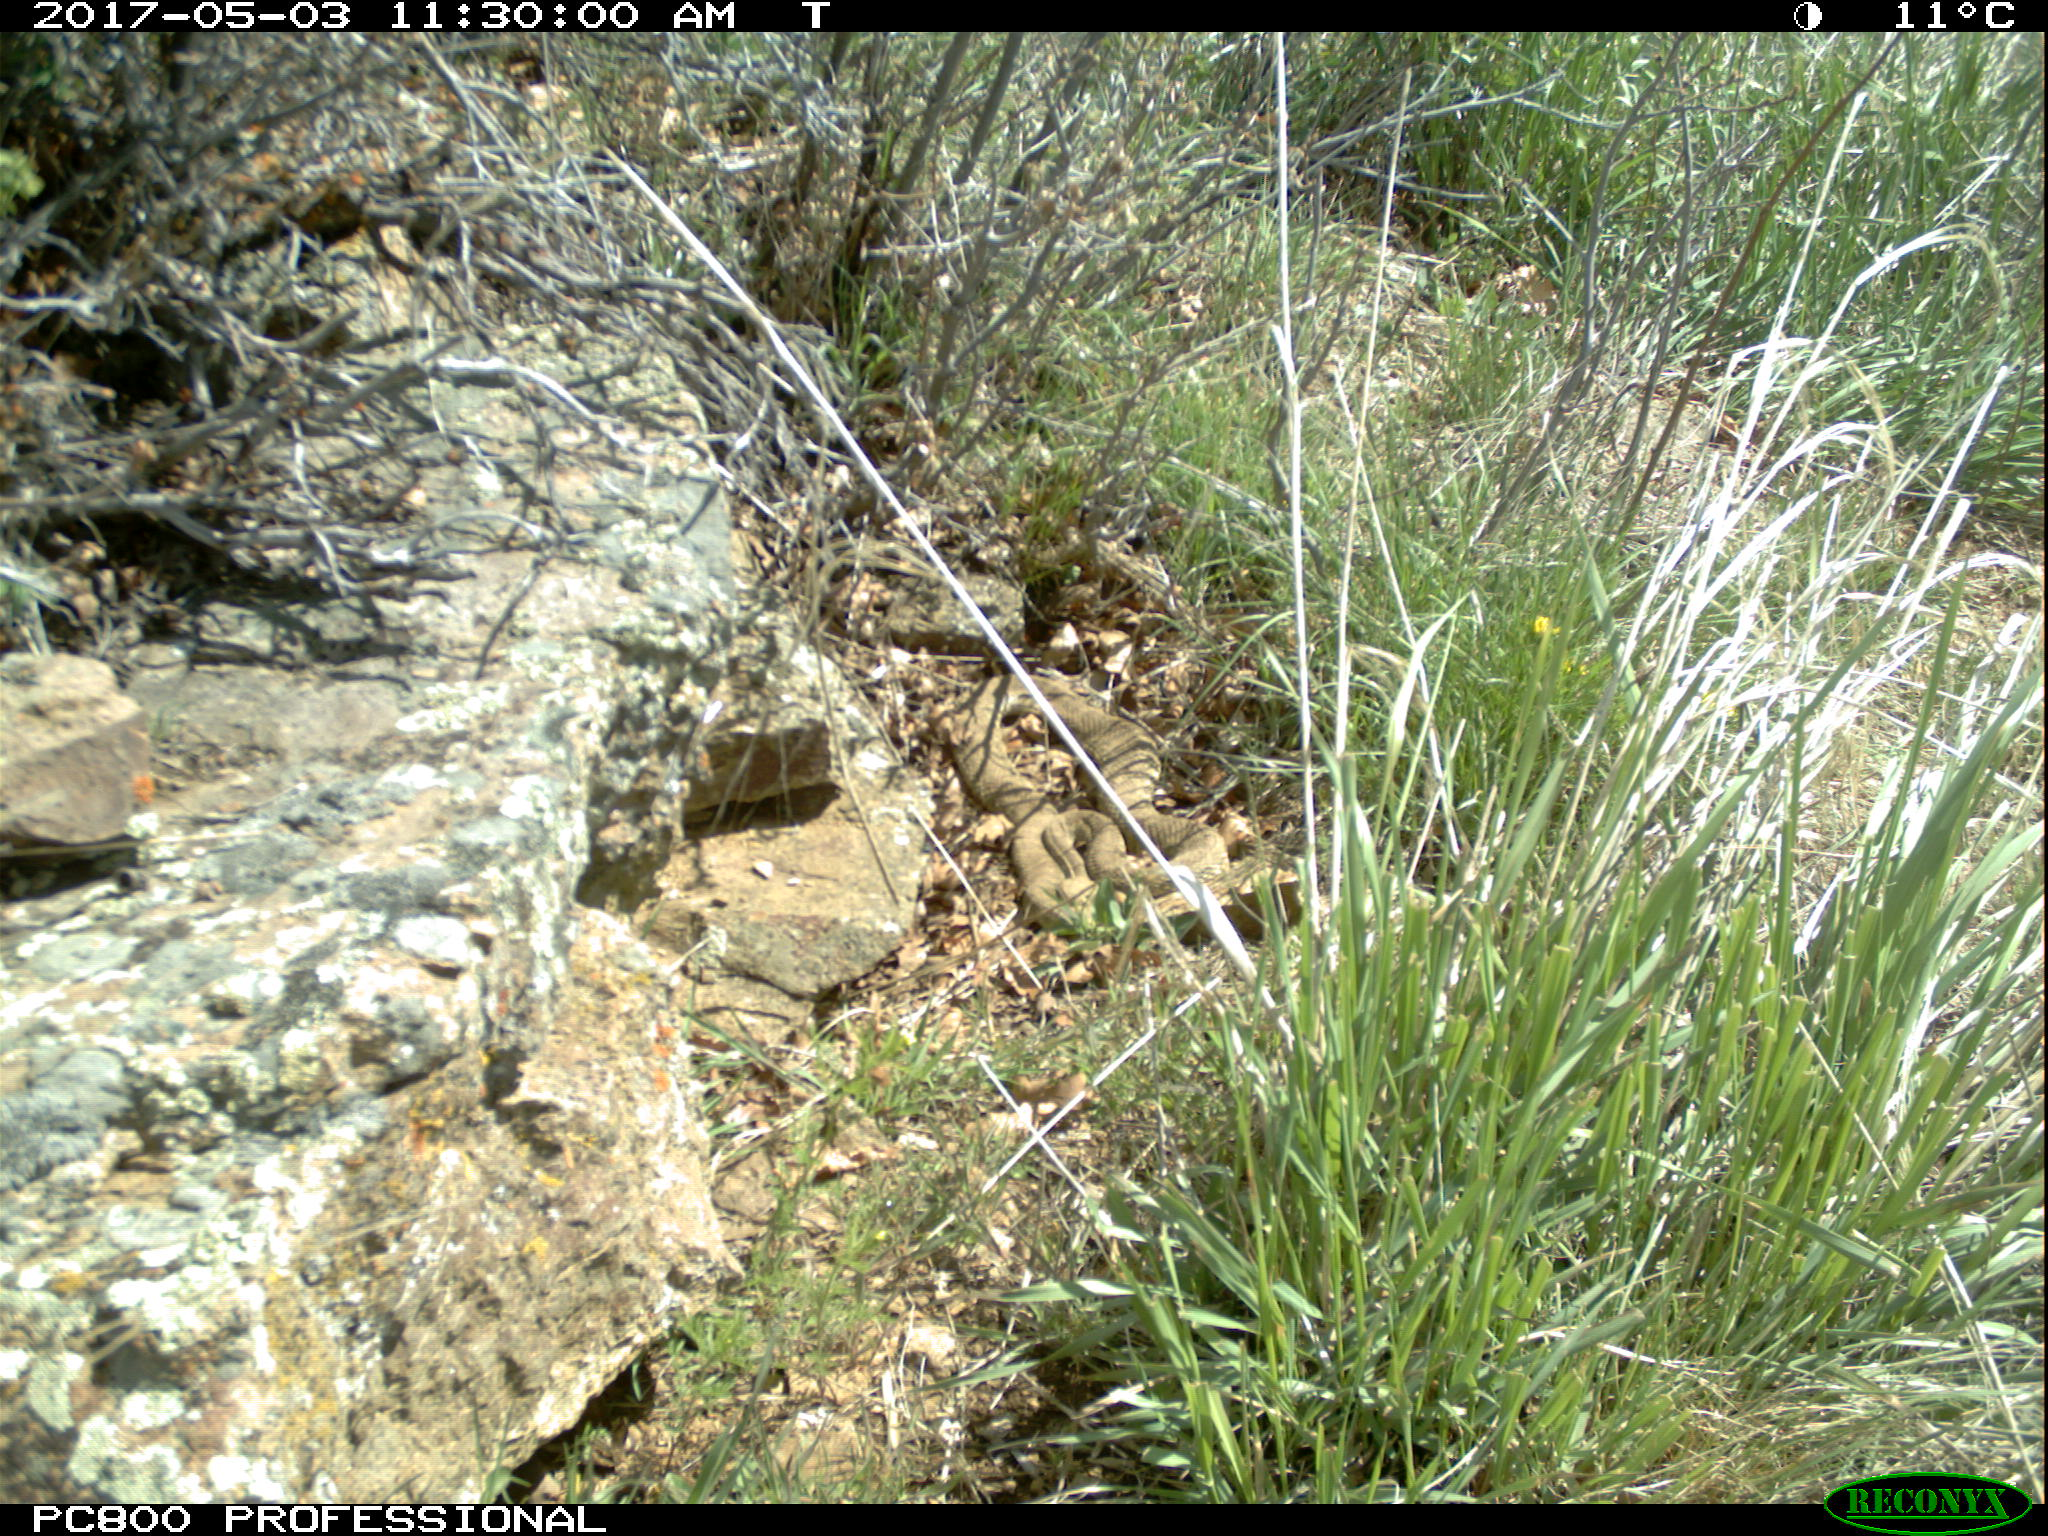snake: (956, 671, 1247, 942)
